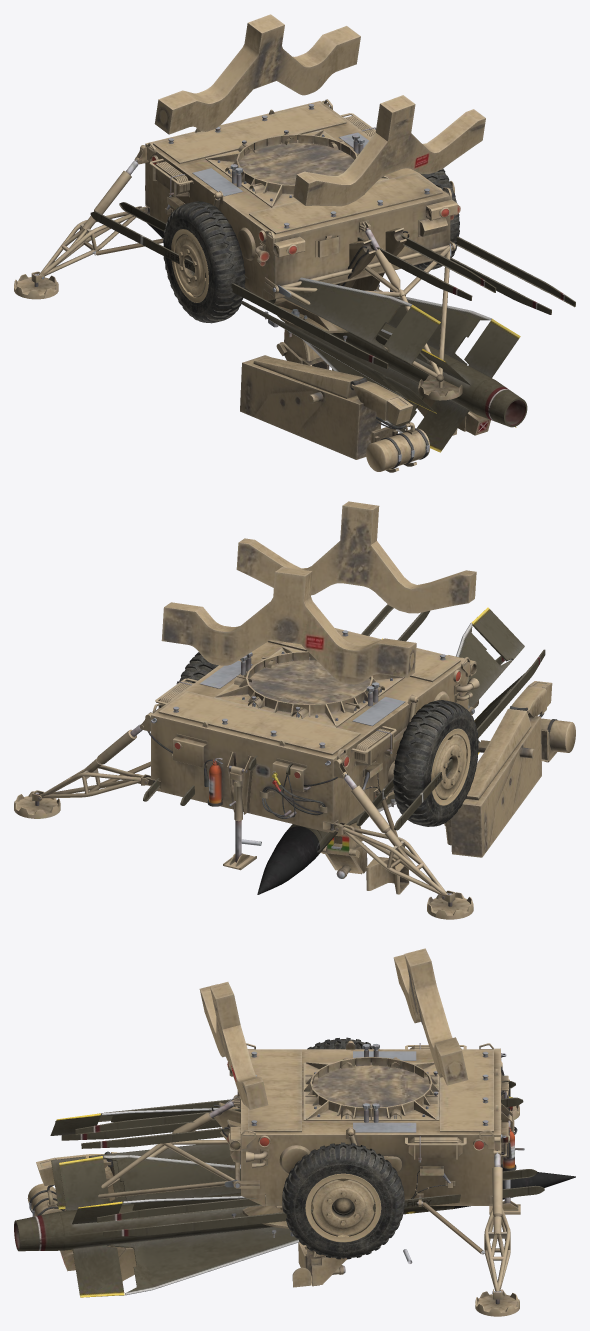
Rendered from hawk.glb.
3 renders of one model, top to bottom at view 1: azimuth 30°, elevation 25°; view 2: azimuth 150°, elevation 25°; view 3: azimuth 270°, elevation 25°, orthographic. The views are drawn at different scales.
Visible parts, largest first — view 1: body|Mim23_Hull_Mat, missile|Mim23_Rocket_Mat (×2), body|Mim23_Tower_Mat, missile|Mim23_Tower_Mat, body|Mim23_Tire_Mat, cradle|Mim23_Rocket_Mat, turret|Mim23_Tower_Mat, turret|Mim23_Hull_Mat; view 2: body|Mim23_Hull_Mat, body|Mim23_Tower_Mat, missile|Mim23_Tower_Mat, body|Mim23_Tire_Mat, missile|Mim23_Rocket_Mat (×2), cradle|Mim23_Rocket_Mat; view 3: body|Mim23_Hull_Mat, missile|Mim23_Rocket_Mat (×2), body|Mim23_Tire_Mat, cradle|Mim23_Rocket_Mat, body|Mim23_Tower_Mat, missile|Mim23_Tower_Mat, turret|Mim23_Tower_Mat, turret|Mim23_Hull_Mat.
Boxes of the visible parts, x1,y1,x2,y2 form: body|Mim23_Hull_Mat: (14, 99, 462, 400); missile|Mim23_Rocket_Mat (×2): (147, 223, 527, 452); body|Mim23_Tower_Mat: (154, 14, 485, 206); missile|Mim23_Tower_Mat: (240, 329, 490, 472); body|Mim23_Tire_Mat: (163, 168, 459, 323); cradle|Mim23_Rocket_Mat: (90, 202, 575, 368); turret|Mim23_Tower_Mat: (336, 228, 409, 290); turret|Mim23_Hull_Mat: (264, 284, 393, 341); body|Mim23_Hull_Mat: (14, 628, 479, 919); body|Mim23_Tower_Mat: (161, 501, 476, 684); missile|Mim23_Tower_Mat: (321, 681, 575, 894); body|Mim23_Tire_Mat: (178, 652, 478, 826); missile|Mim23_Rocket_Mat (×2): (257, 607, 524, 894); cradle|Mim23_Rocket_Mat: (143, 604, 545, 830); body|Mim23_Hull_Mat: (65, 1040, 524, 1316); missile|Mim23_Rocket_Mat (×2): (14, 1107, 575, 1297); body|Mim23_Tire_Mat: (282, 1037, 404, 1259); cradle|Mim23_Rocket_Mat: (55, 1080, 544, 1236); body|Mim23_Tower_Mat: (199, 948, 468, 1109); missile|Mim23_Tower_Mat: (27, 1151, 347, 1287); turret|Mim23_Tower_Mat: (211, 1102, 282, 1208); turret|Mim23_Hull_Mat: (231, 1205, 293, 1237).
Size of the model in its own units: 4.39 by 3.21 by 4.91.
10 materials, 10 textured.
